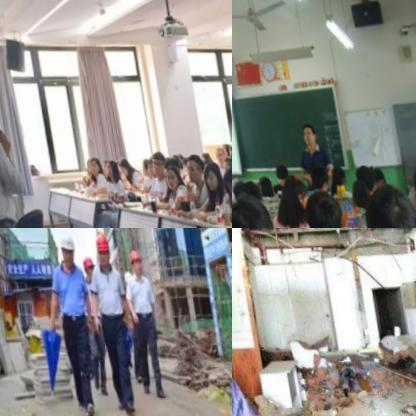head: (356, 175, 416, 228), (297, 183, 343, 228), (232, 183, 276, 228), (278, 169, 306, 211), (300, 154, 328, 193), (403, 156, 416, 220), (344, 172, 368, 204), (240, 173, 262, 207), (179, 147, 202, 179), (197, 157, 218, 191), (349, 154, 370, 183), (361, 158, 383, 184), (323, 158, 342, 185), (297, 116, 314, 146), (254, 166, 271, 194), (218, 163, 232, 196), (160, 160, 177, 186), (146, 146, 162, 173), (269, 155, 286, 178), (113, 152, 129, 174), (216, 150, 232, 171), (100, 155, 114, 178), (232, 173, 244, 197), (83, 153, 97, 171), (142, 153, 154, 174), (95, 155, 107, 172), (135, 154, 147, 170), (210, 143, 221, 157), (217, 137, 227, 152)
helmet: (54, 231, 76, 271), (91, 231, 111, 272), (123, 244, 141, 277), (78, 251, 95, 281)
